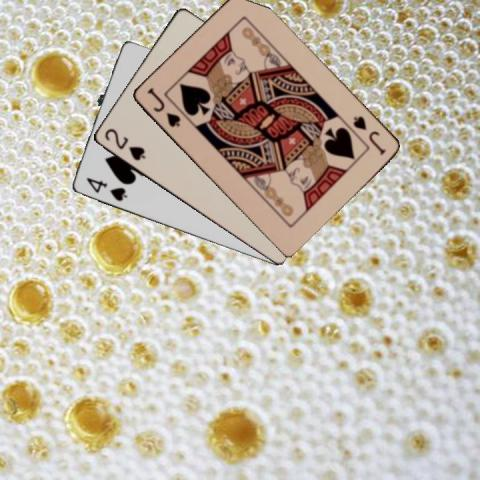2s: (100, 125, 146, 163)
4s: (82, 175, 126, 203)
Js: (143, 84, 182, 128), (350, 112, 388, 156)
